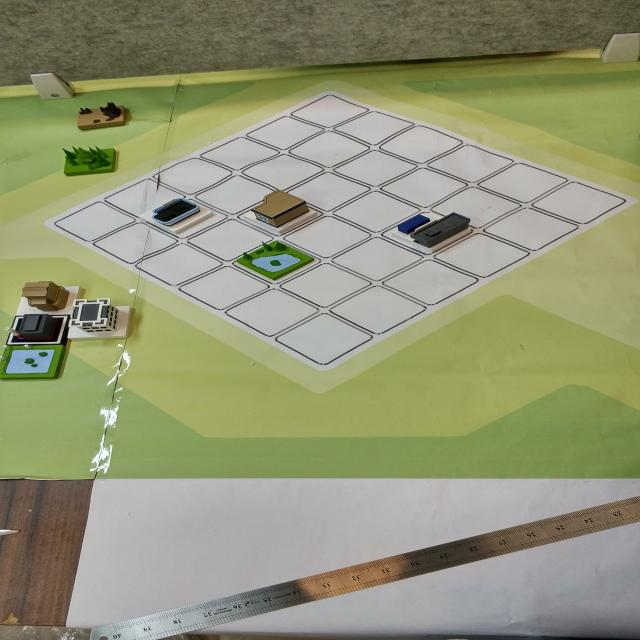bus_stop: (379, 206, 478, 254)
factory: (1, 313, 71, 345)
fish_pool: (0, 345, 87, 383)
forest: (54, 142, 137, 177)
gogo_shop: (140, 194, 222, 234)
research_build: (64, 297, 147, 343)
restaurant: (229, 188, 329, 234)
silicate_rock: (70, 101, 134, 134)
volunteer_center: (13, 276, 82, 316)
wet_land: (225, 240, 324, 282)
